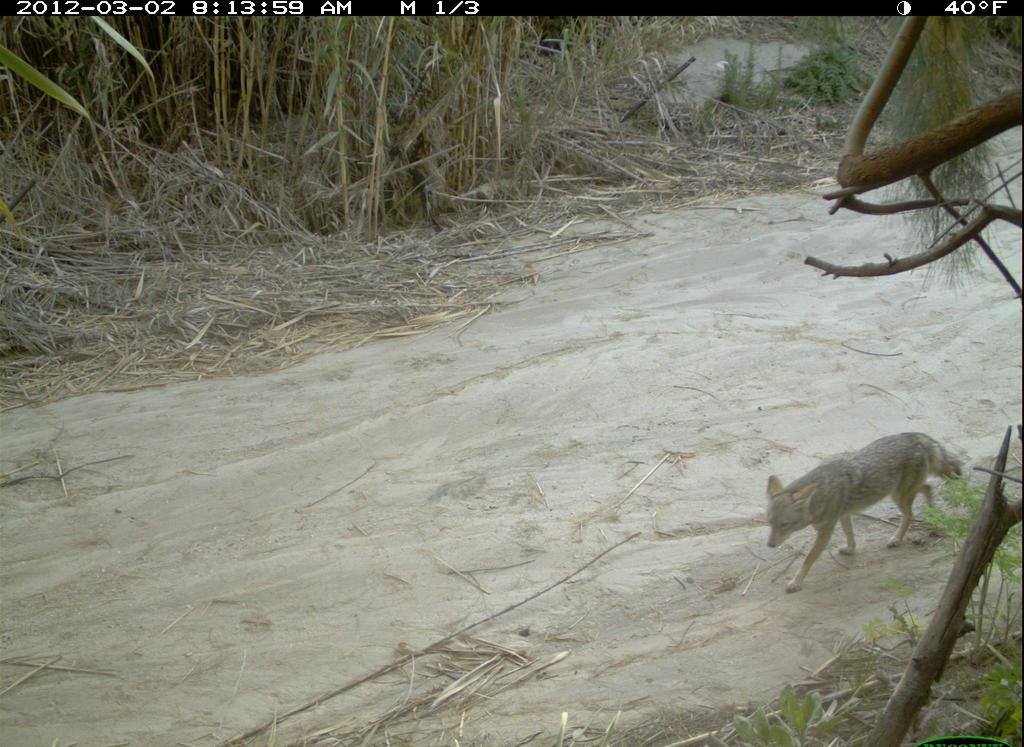coyote: (762, 431, 966, 594)
